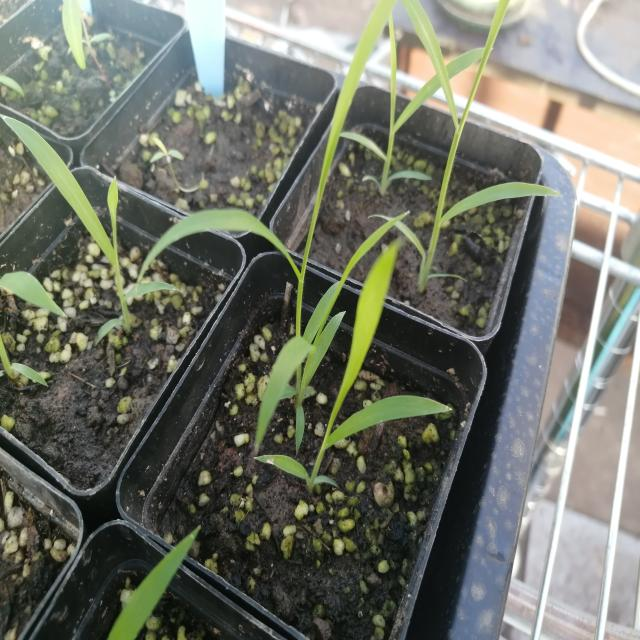crabgrass: (212, 31, 368, 396), (388, 6, 542, 268), (286, 240, 436, 506), (8, 101, 160, 334)
